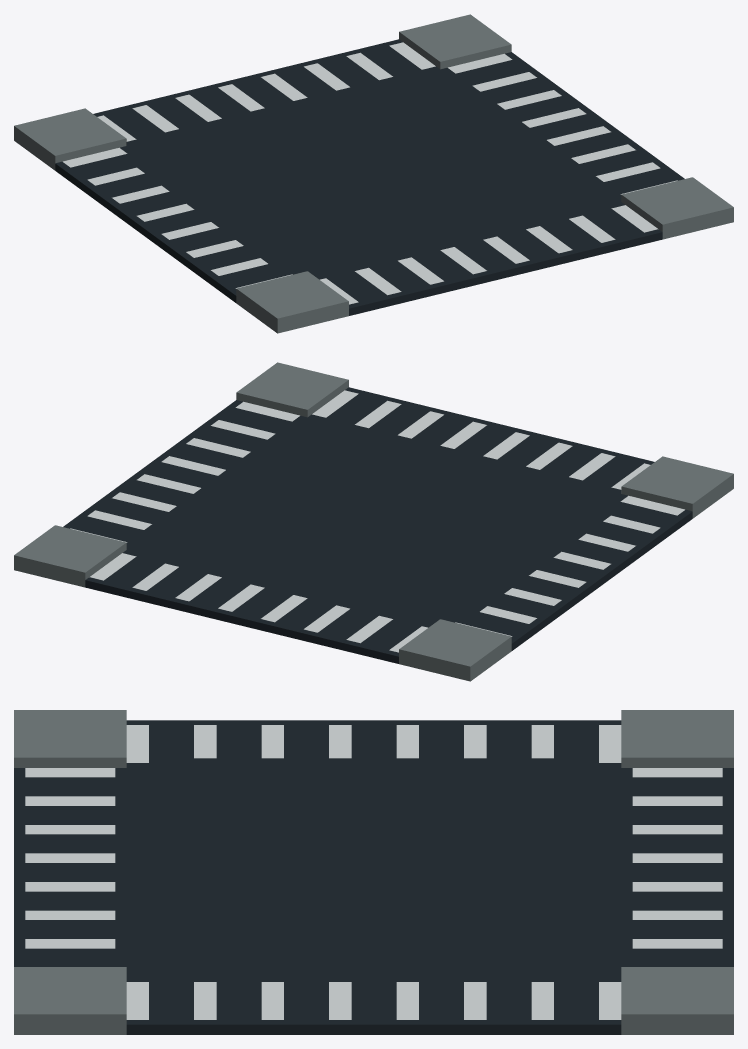
File: Road4.obj
3 views of the same model, one above another, from view 1: azimuth 30°, elevation 25°; view 2: azimuth 150°, elevation 25°; view 3: azimuth 270°, elevation 25° (orthographic). The views are drawn at different scales.
Size of the model in its own units: 6.4 by 0.2 by 6.4.
1 material, 1 textured.
